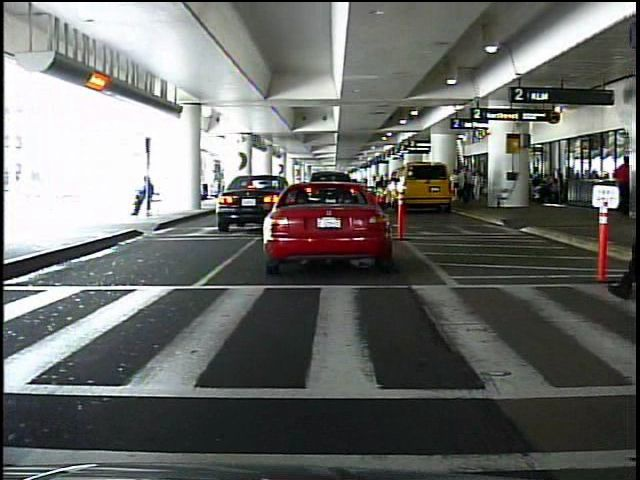person: (612, 152, 639, 304), (616, 155, 633, 215)
